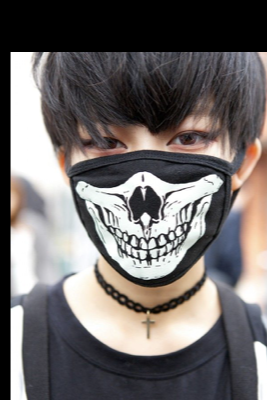with_mask: (66, 98, 233, 289)
